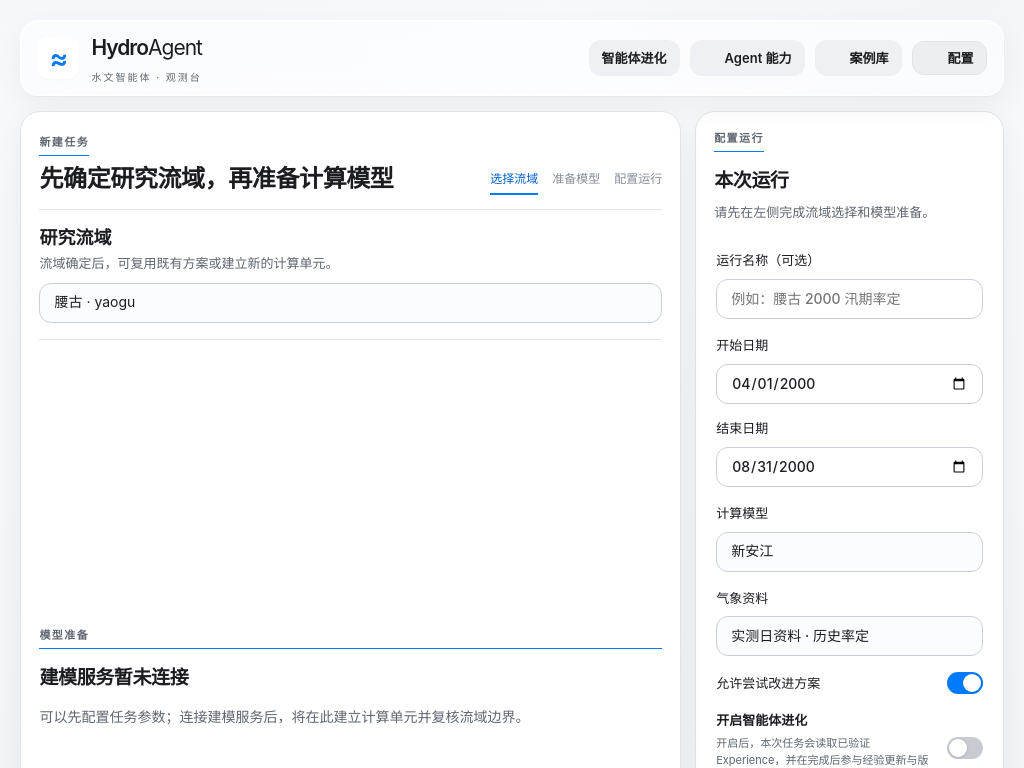
Scenario: single page observatory › opens the agent evolution observatory from the header
Click the button with test id "header-experience-evolution" at point(634, 58), box left=589, top=40, right=680, bottom=76
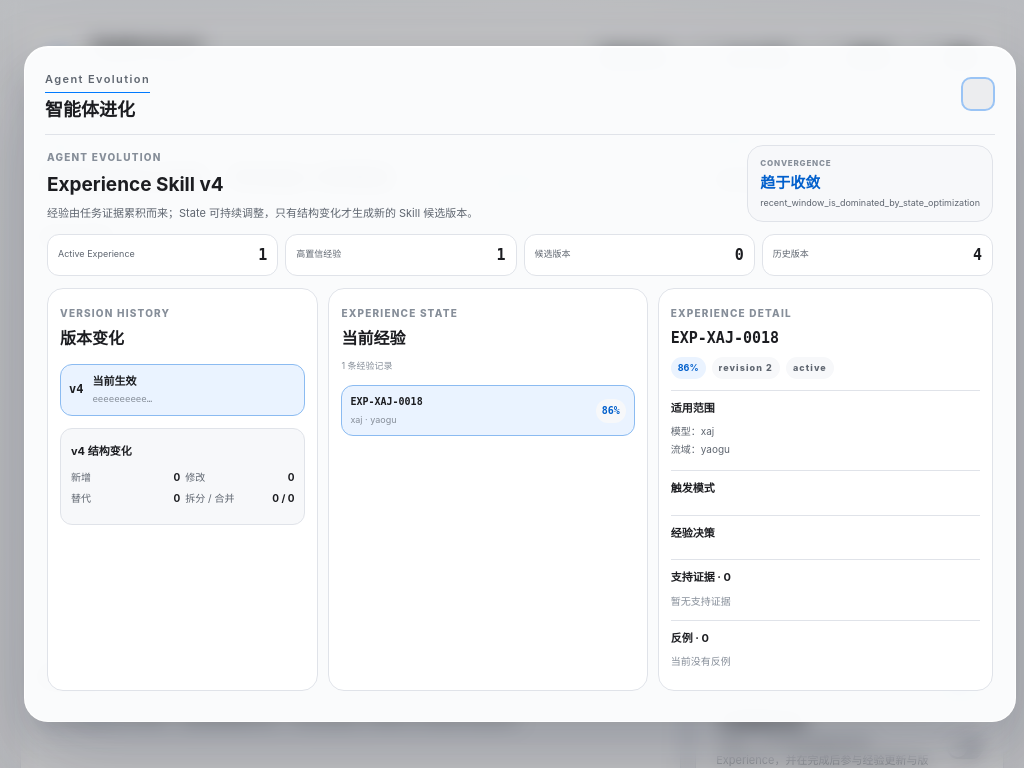
Check: the text "Experience Skill v4" is shown, box left=47, top=173, right=224, bottom=196
Check: the text "EXP-XAJ-0018" is shown, box left=350, top=394, right=423, bottom=410
